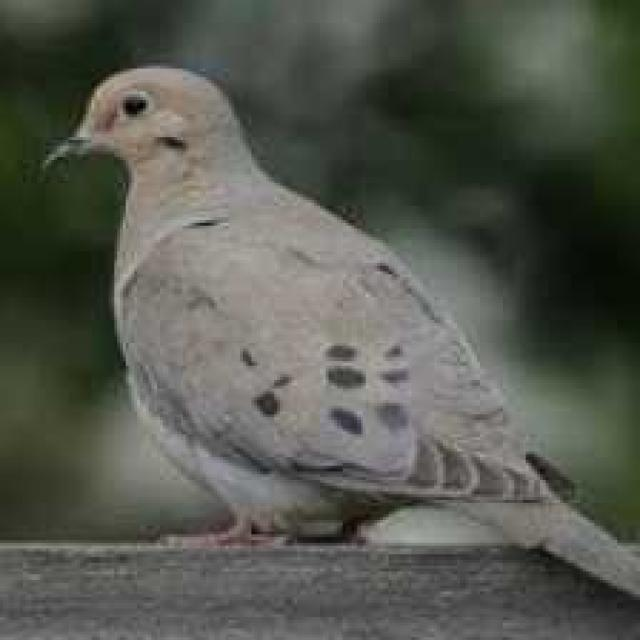bird: (39, 65, 636, 581)
